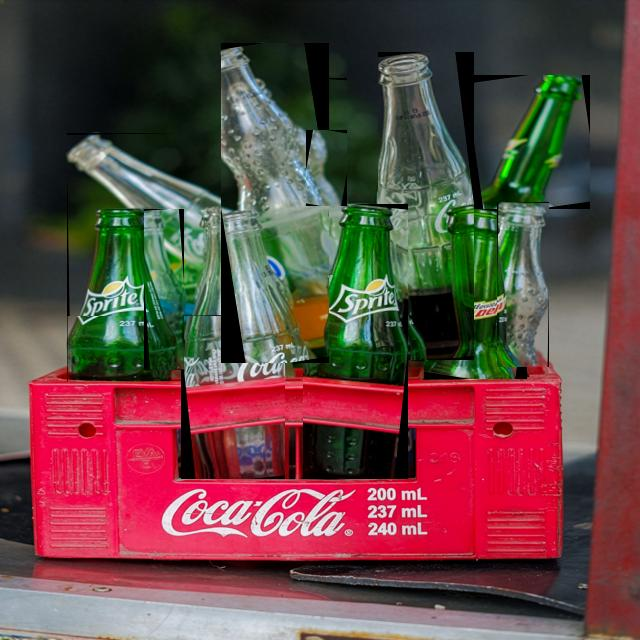Bottle: (222, 44, 328, 363), (378, 52, 474, 360), (67, 133, 227, 302), (304, 205, 407, 380), (182, 207, 285, 381), (68, 209, 171, 381), (425, 210, 527, 379), (474, 76, 589, 209), (498, 203, 548, 366), (145, 210, 184, 370), (307, 131, 346, 205)
